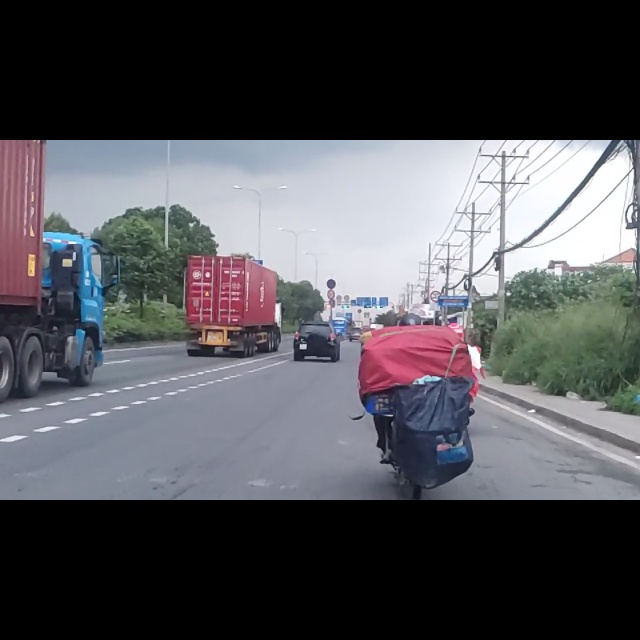bien_chi_dan: (431, 267, 441, 289), (326, 247, 337, 264)
